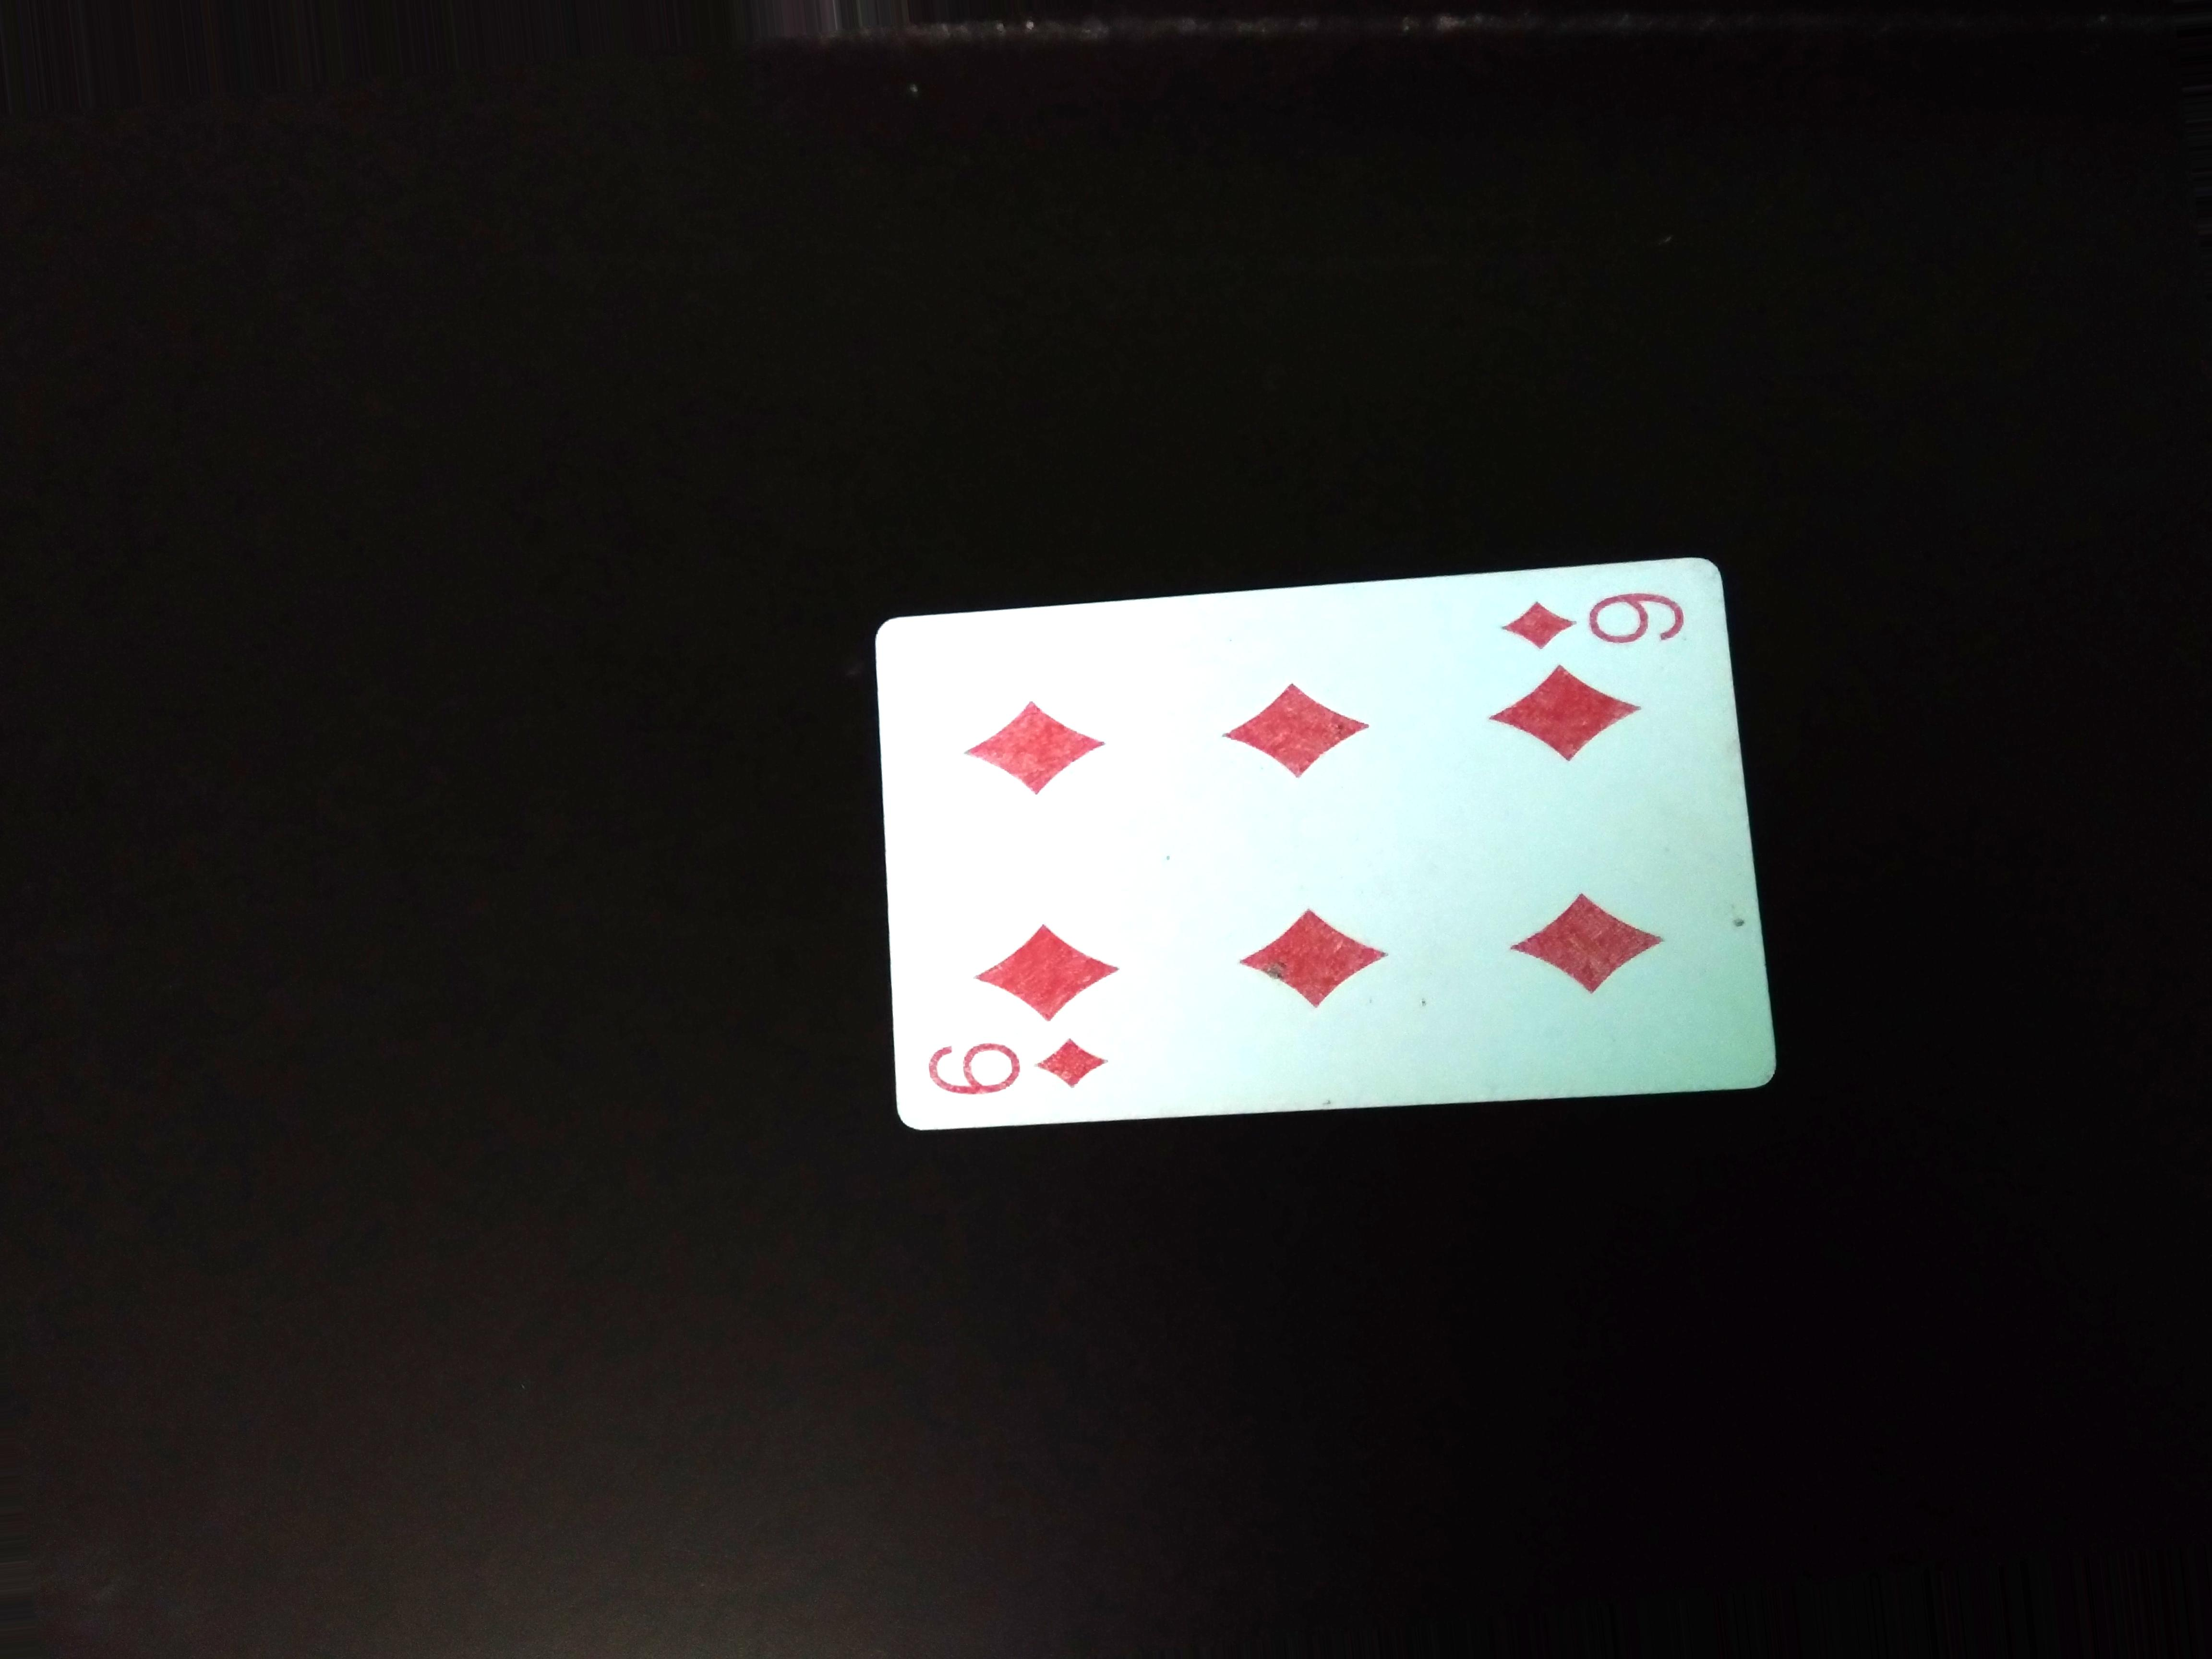6D: (918, 1033, 1108, 1112)
